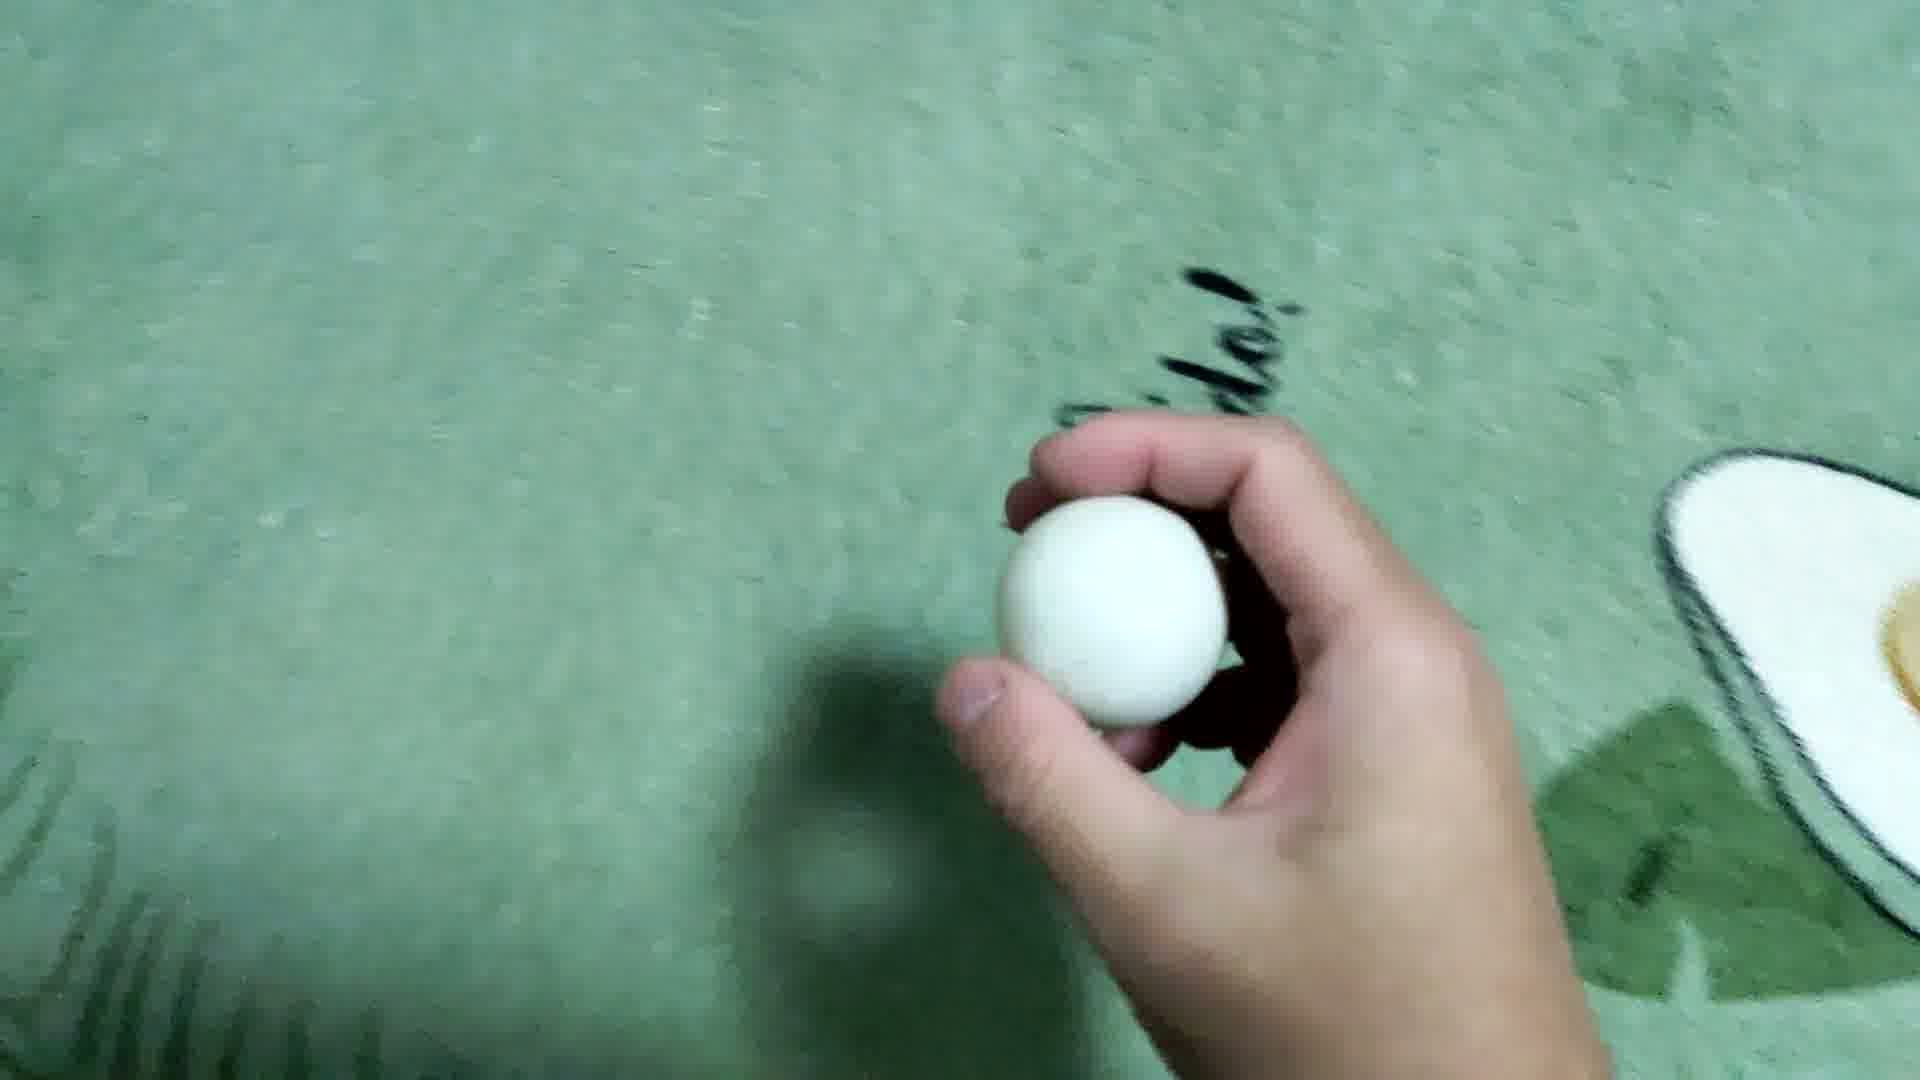Ball: (1001, 500, 1222, 727)
